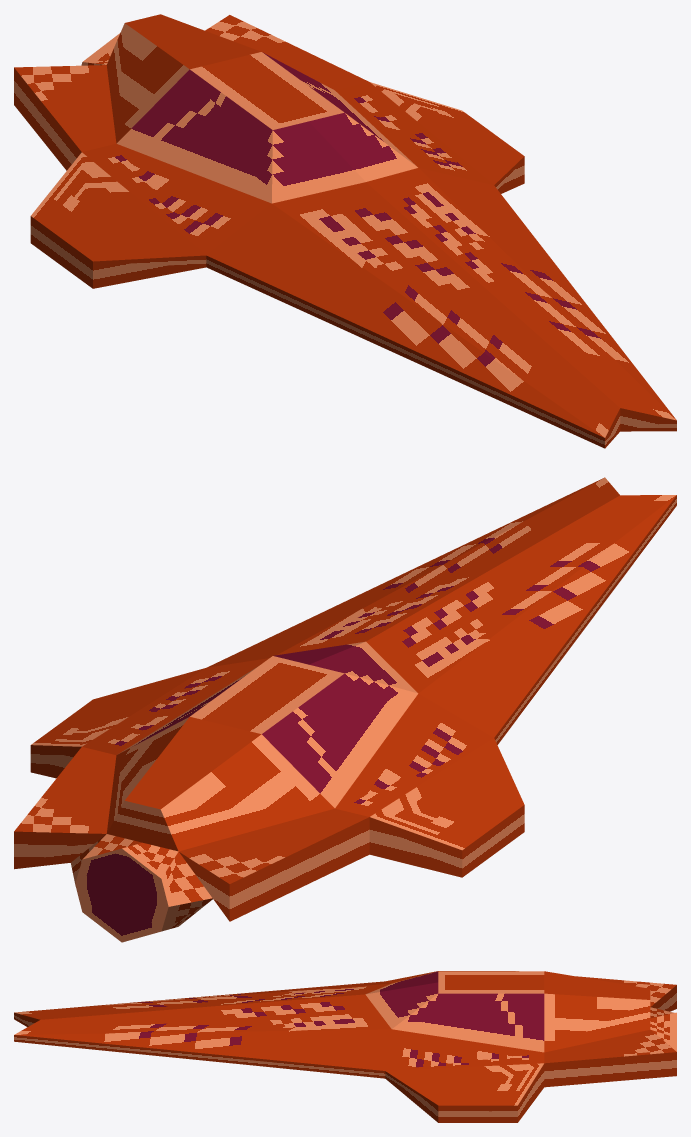
The model's file is Corvette.fbx.
3 renders of one model, top to bottom at view 1: azimuth 30°, elevation 25°; view 2: azimuth 150°, elevation 25°; view 3: azimuth 270°, elevation 25°, orthographic. The views are drawn at different scales.
Parts seen in each view (by area): view 1: Plane; view 2: Plane; view 3: Plane.
Part boxes in pixels (left/top/right/bottom): Plane: left=14, top=14, right=676, bottom=448; Plane: left=14, top=477, right=676, bottom=942; Plane: left=14, top=971, right=676, bottom=1122.
Bounding box in the file's own units: 12 × 3.75 × 25.
